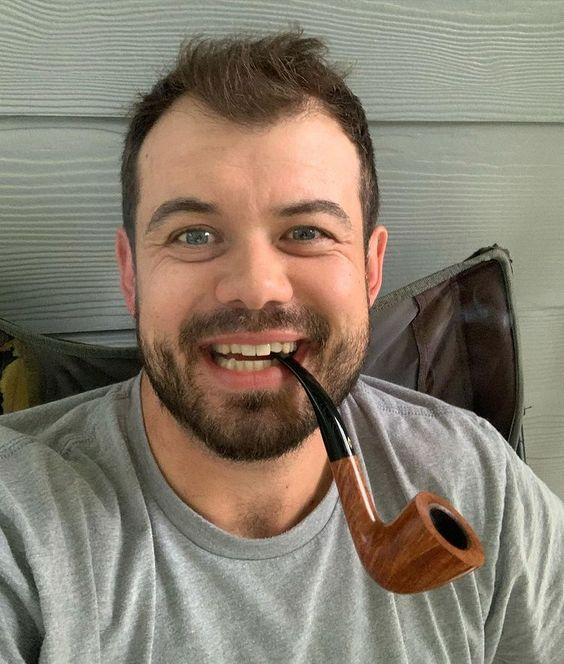trubka: (278, 358, 484, 593)
